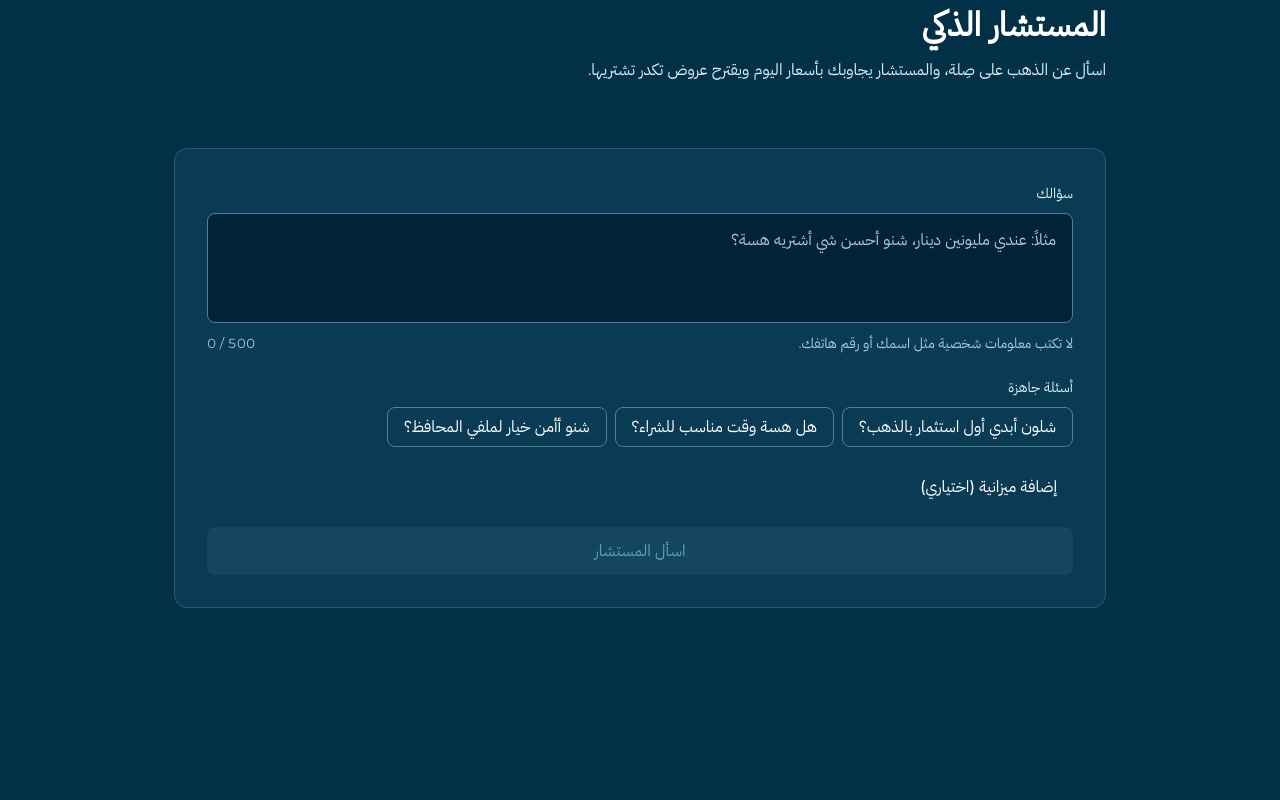
Test case: AdvisorPage › hides the figures panel for an unrelated question
The image size is (1280, 800).
Type "شلون أعالج الصداع؟" into the text box labelled "سؤالك". click: [640, 268]
box: [207,213,1073,323]
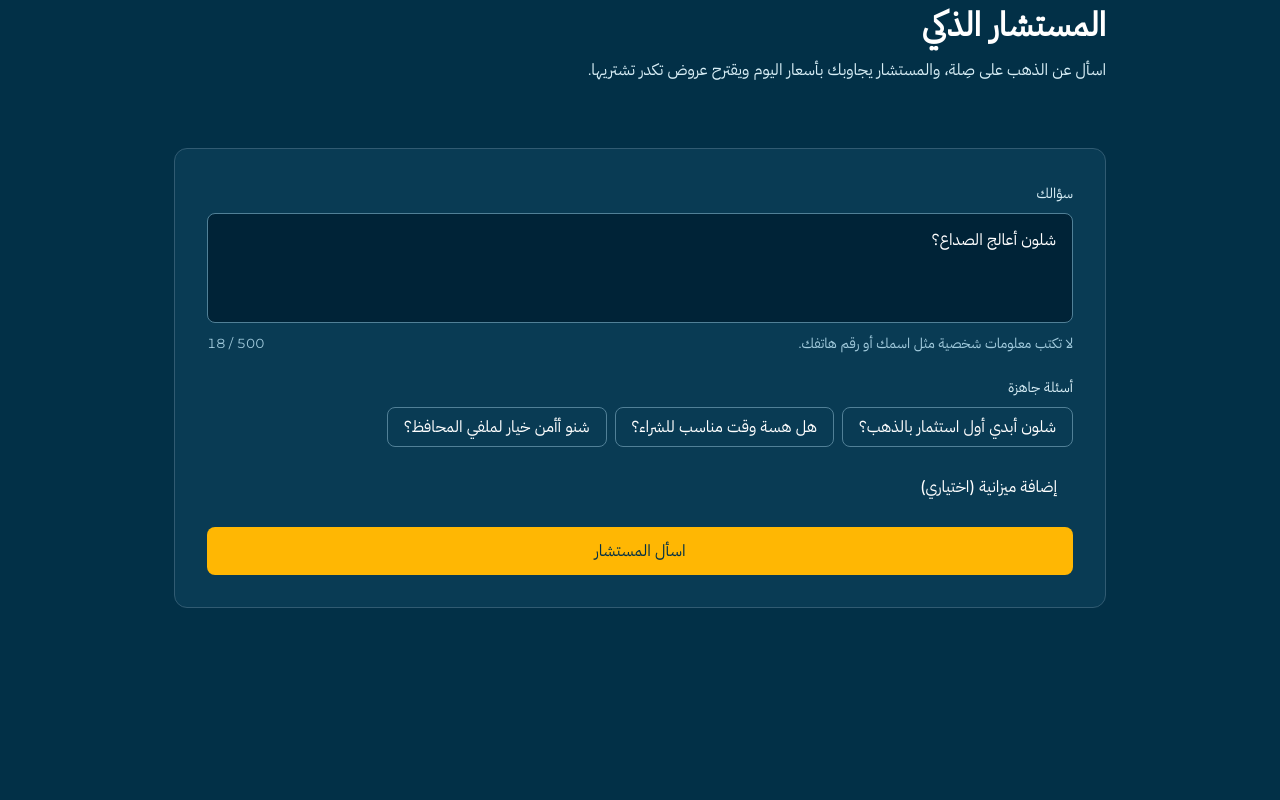
Click the button "اسأل المستشار". click: [640, 551]
box: [207,527,1073,575]
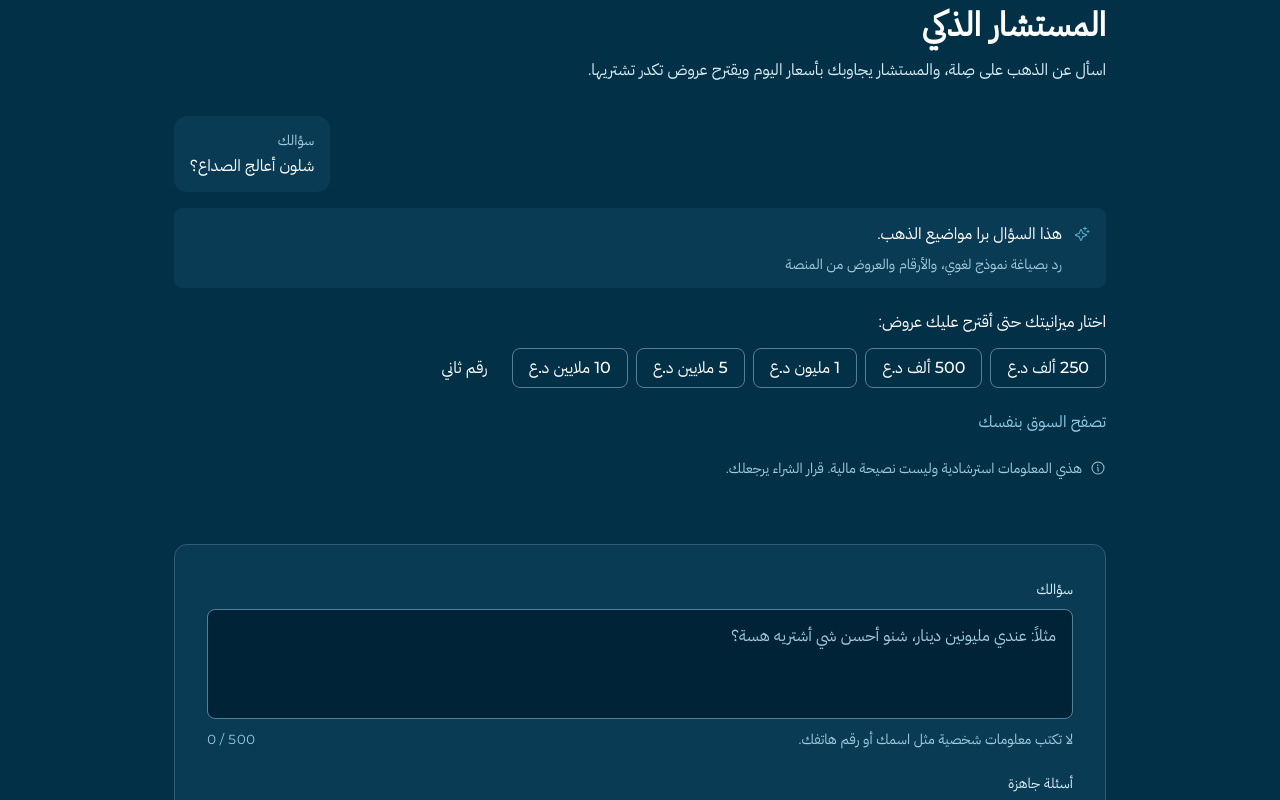
Result: the text "هذا السؤال برا مواضيع الذهب." is shown at [877,224,1062,243]
